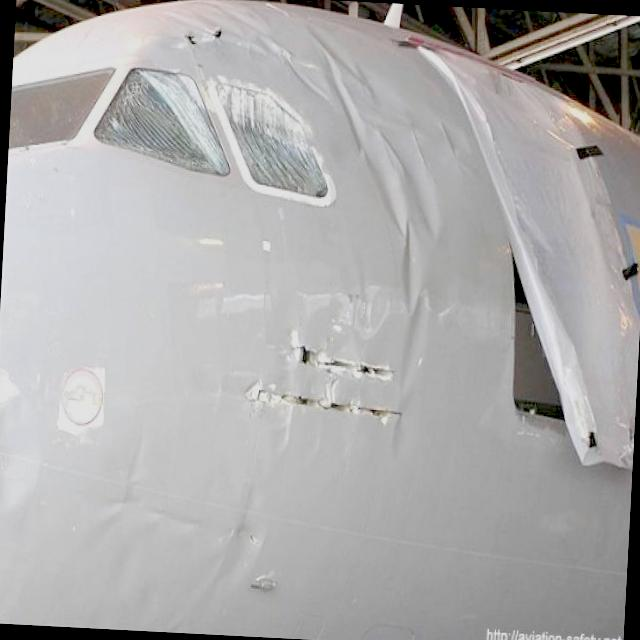crack: (242, 322, 410, 433)
